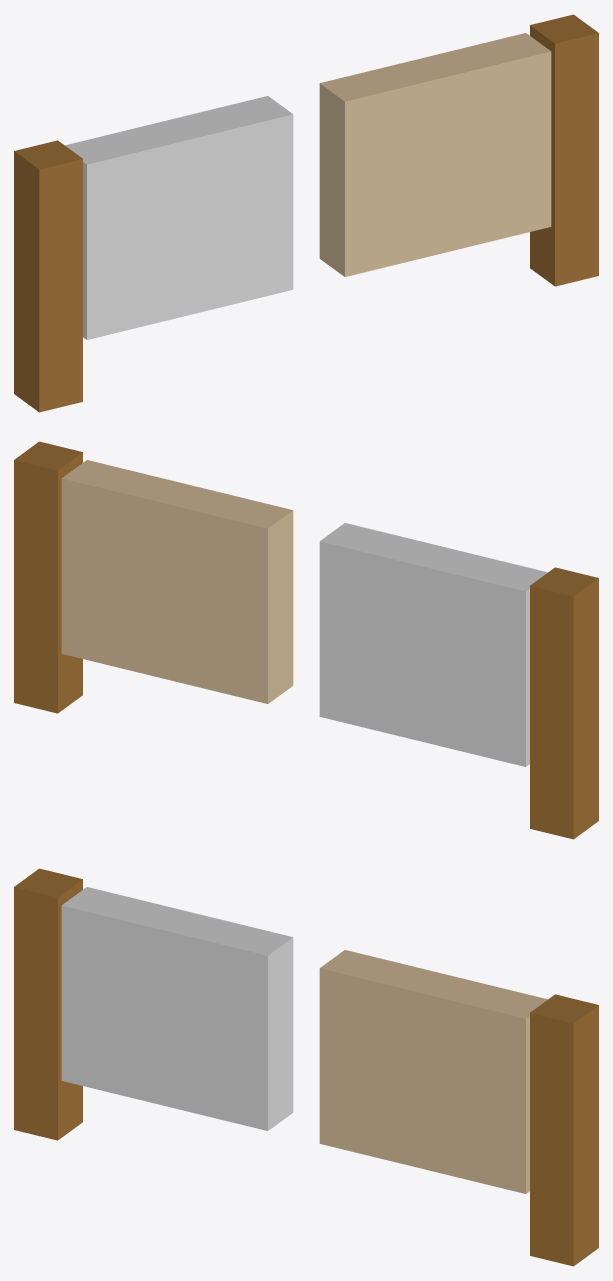
The model's file is SM_Tendedero_v2_Sabanas_LOD1.fbx.
3 renders of one model, top to bottom at view 1: azimuth 30°, elevation 25°; view 2: azimuth 150°, elevation 25°; view 3: azimuth 330°, elevation 25°, orthographic.
Parts seen in each view (by area): view 1: SM_vida_fuerte_v7_LOD1; view 2: SM_vida_fuerte_v7_LOD1; view 3: SM_vida_fuerte_v7_LOD1.
Part boxes in pixels (bbox=[...]): SM_vida_fuerte_v7_LOD1: bbox=[14, 14, 598, 412]; SM_vida_fuerte_v7_LOD1: bbox=[14, 441, 598, 839]; SM_vida_fuerte_v7_LOD1: bbox=[14, 868, 598, 1266].
Size of the model in its own units: 4.34 by 1.8 by 0.34.
